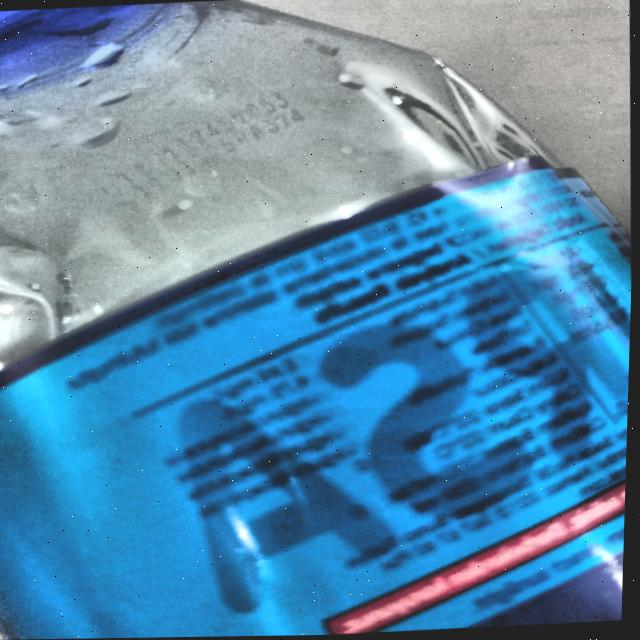plastic: (0, 0, 633, 640)
